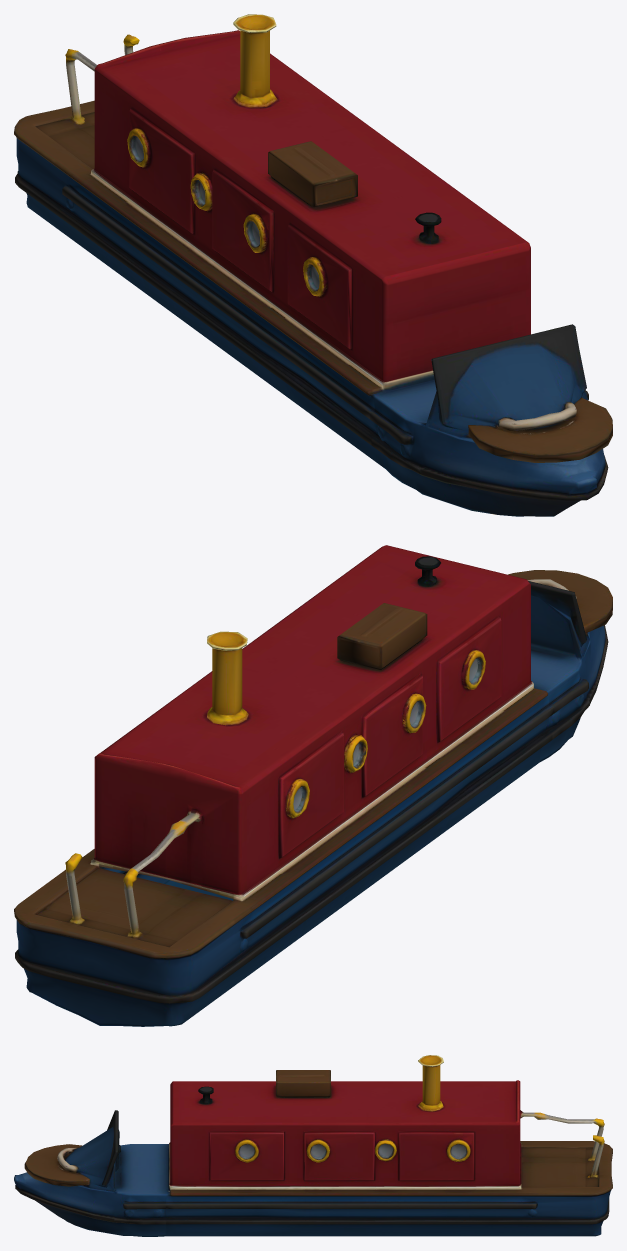
Rendered from canal-boat-blender-cleanup.glb.
3 renders of one model, top to bottom at view 1: azimuth 30°, elevation 25°; view 2: azimuth 150°, elevation 25°; view 3: azimuth 270°, elevation 25°, orthographic. The views are drawn at different scales.
Parts seen in each view (by area): view 1: tripo_node_aa7ac592-5e84-4ab6-8afa-c6c24f317718; view 2: tripo_node_aa7ac592-5e84-4ab6-8afa-c6c24f317718; view 3: tripo_node_aa7ac592-5e84-4ab6-8afa-c6c24f317718.
Part boxes in pixels (left/top/right/bottom): tripo_node_aa7ac592-5e84-4ab6-8afa-c6c24f317718: left=14, top=14, right=612, bottom=516; tripo_node_aa7ac592-5e84-4ab6-8afa-c6c24f317718: left=14, top=545, right=612, bottom=1026; tripo_node_aa7ac592-5e84-4ab6-8afa-c6c24f317718: left=14, top=1055, right=612, bottom=1236.
Bounding box in the file's own units: 0.2172 × 0.3092 × 0.998.
1 material, 1 textured.
